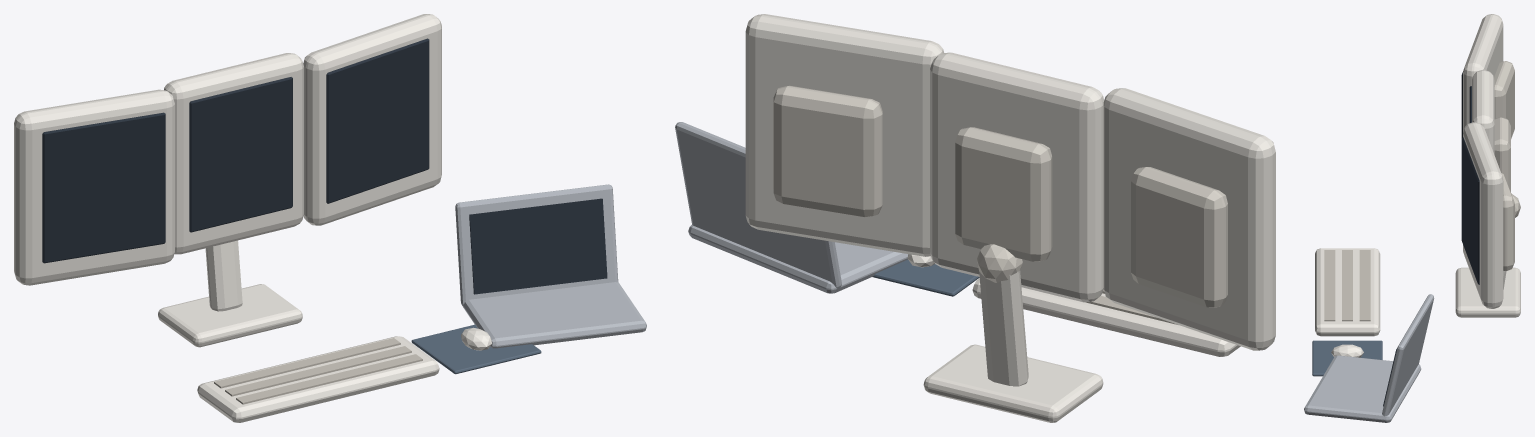
File: monitor_c.glb
The picture shows the model from 3 angles, left to right: view 1: azimuth 30°, elevation 25°; view 2: azimuth 150°, elevation 25°; view 3: azimuth 270°, elevation 25°; orthographic projection. The views are drawn at different scales.
Parts seen in each view (by area): view 1: Monitor, Screen; view 2: Monitor; view 3: Monitor, Screen.
Boxes of the visible parts, box(x1,y1,x2,y2) form: Monitor: box(14, 14, 646, 422); Screen: box(42, 38, 607, 294); Monitor: box(675, 14, 1275, 422); Monitor: box(1304, 14, 1520, 422); Screen: box(1383, 72, 1479, 406).
Size of the model in its own units: 0.989 by 0.45 by 0.4316.
